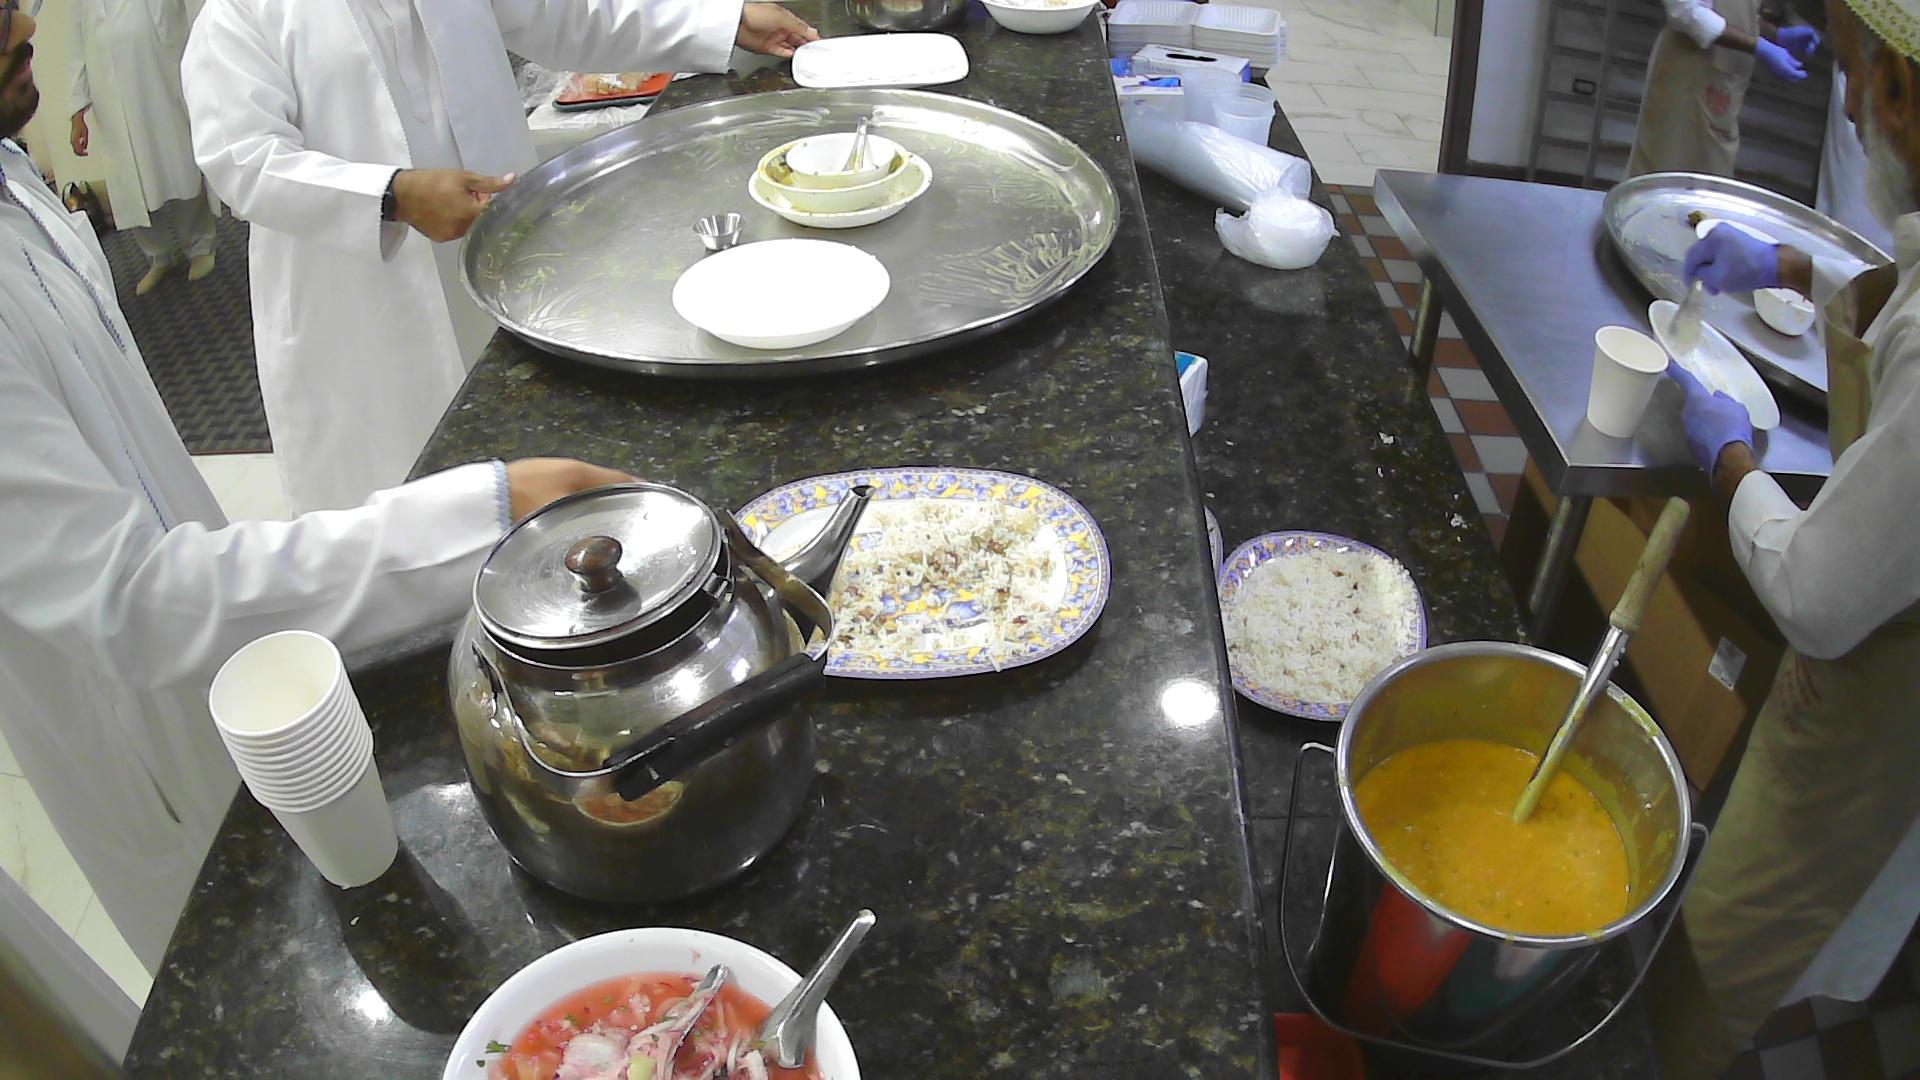thaal: (458, 83, 1124, 386), (1600, 171, 1898, 414)
